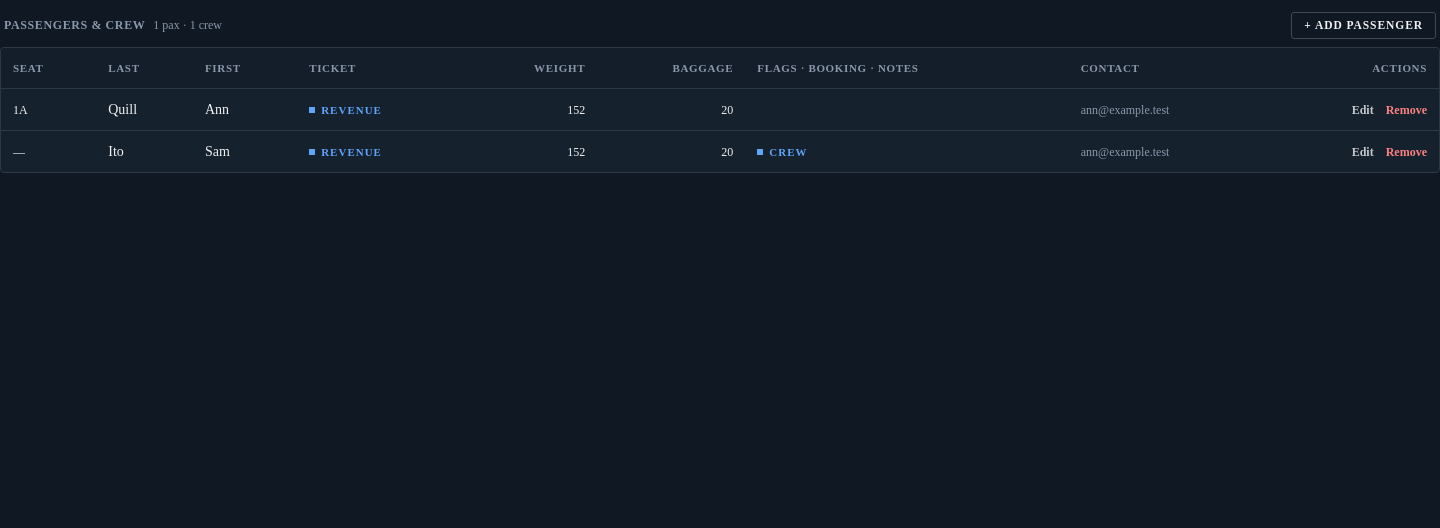
Scenario: Passengers & Crew (#62) › edits a passenger in a form holding what is on the manifest
Step 1. Click the button "Edit" in the row of "1A" → (1363, 110), box [1352, 102, 1374, 118]
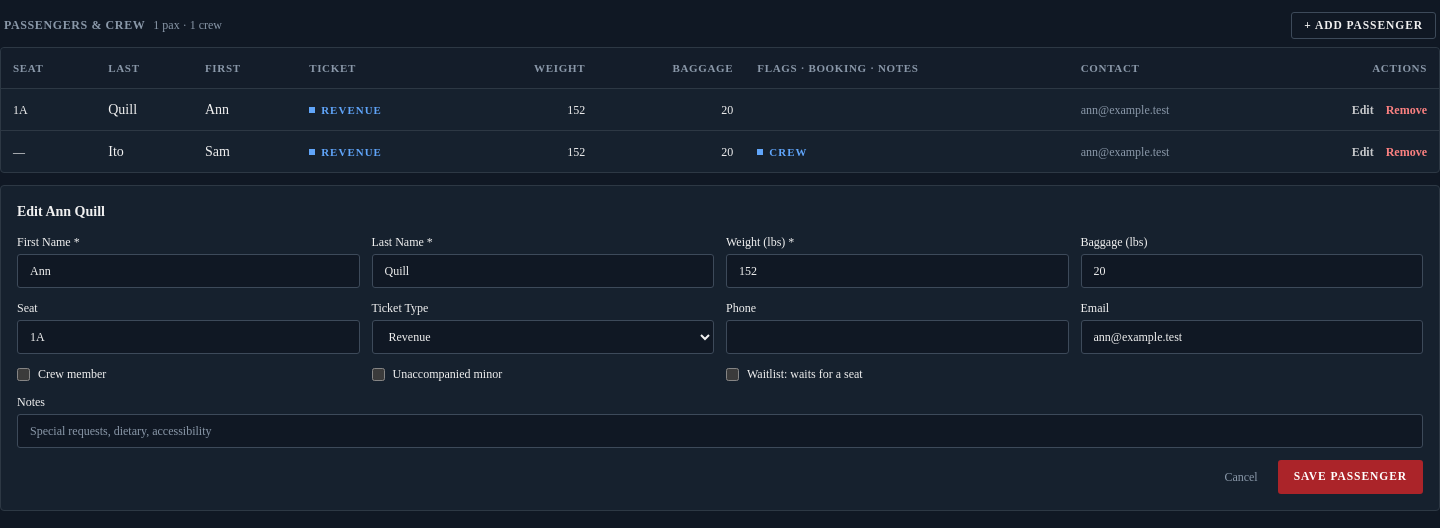
Now the number field labelled "Weight (lbs) *" holds "152", box [726, 254, 1068, 288]
Now the field labelled "Email" holds "ann@example.test", box [1080, 320, 1423, 354]
Now the checkbox labelled "Crew member" is not checked, box [17, 368, 30, 381]
